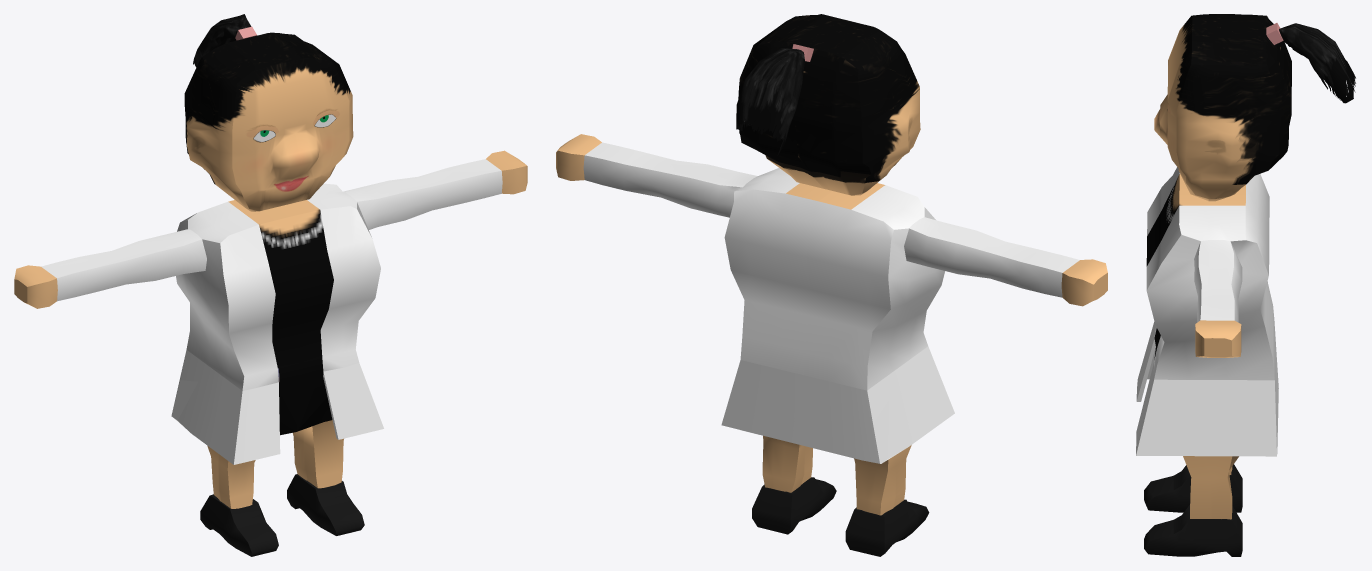
File: chole.fbx
3 views of the same model, side by side, from view 1: azimuth 30°, elevation 25°; view 2: azimuth 150°, elevation 25°; view 3: azimuth 270°, elevation 25° (orthographic). The views are drawn at different scales.
Visible parts, largest first — view 1: chole; view 2: chole; view 3: chole.
Boxes of the visible parts, left/top/right/bottom form: chole: left=14, top=14, right=527, bottom=556; chole: left=556, top=14, right=1107, bottom=556; chole: left=1136, top=14, right=1355, bottom=556.
Bounding box in the file's own units: 18.28 × 16.6 × 6.63.
